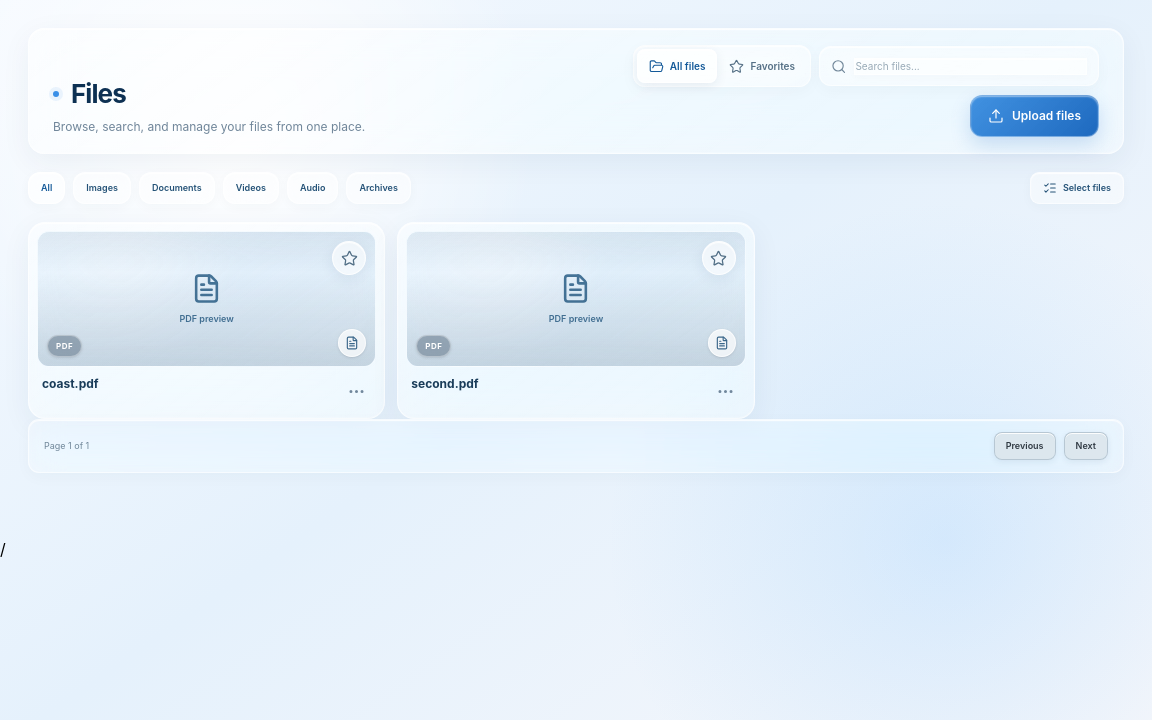
Scenario: page workflows › keeps failed files selected after a partial delete
Expected: the heading "coast.pdf" is shown, x1=42 y1=376 x2=98 y2=392
Click the button "Select files" at [1077, 188], box x1=1030 y1=172 x2=1124 y2=204
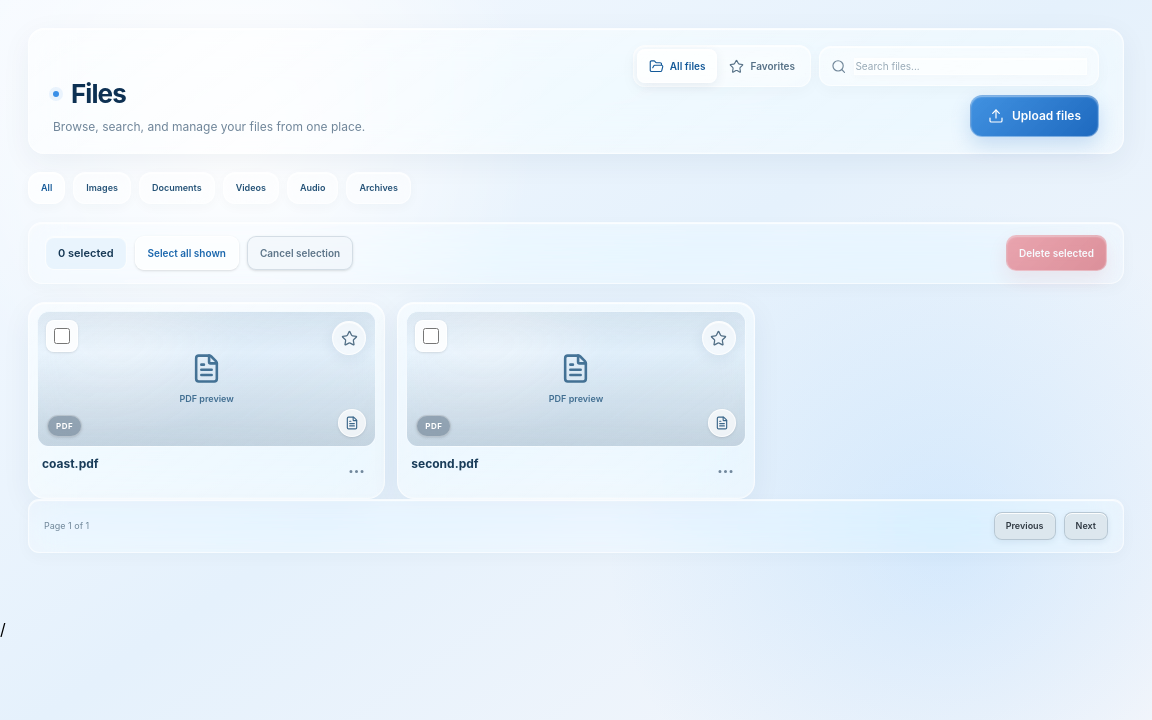
Click the checkbox named "Select coast.pdf" at [62, 336], box x1=54 y1=328 x2=70 y2=344
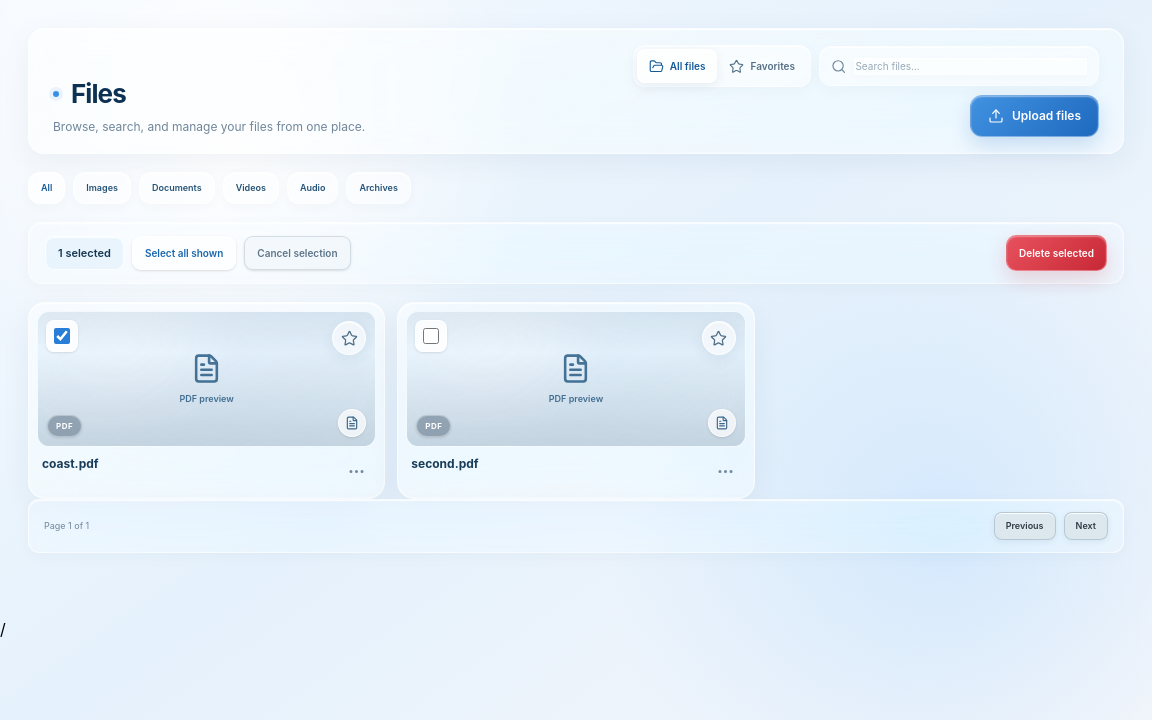
Click the checkbox named "Select second.pdf" at [431, 336], box x1=423 y1=328 x2=439 y2=344
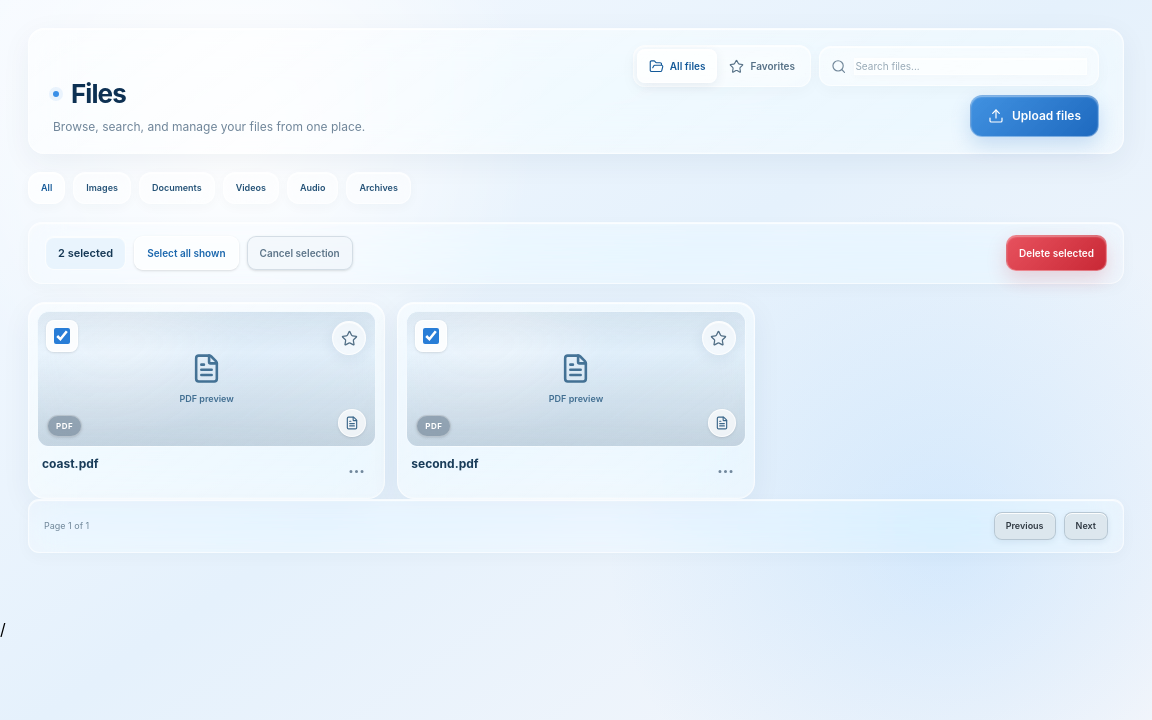
Click the button "Delete selected" at [1057, 253], box x1=1006 y1=235 x2=1107 y2=271
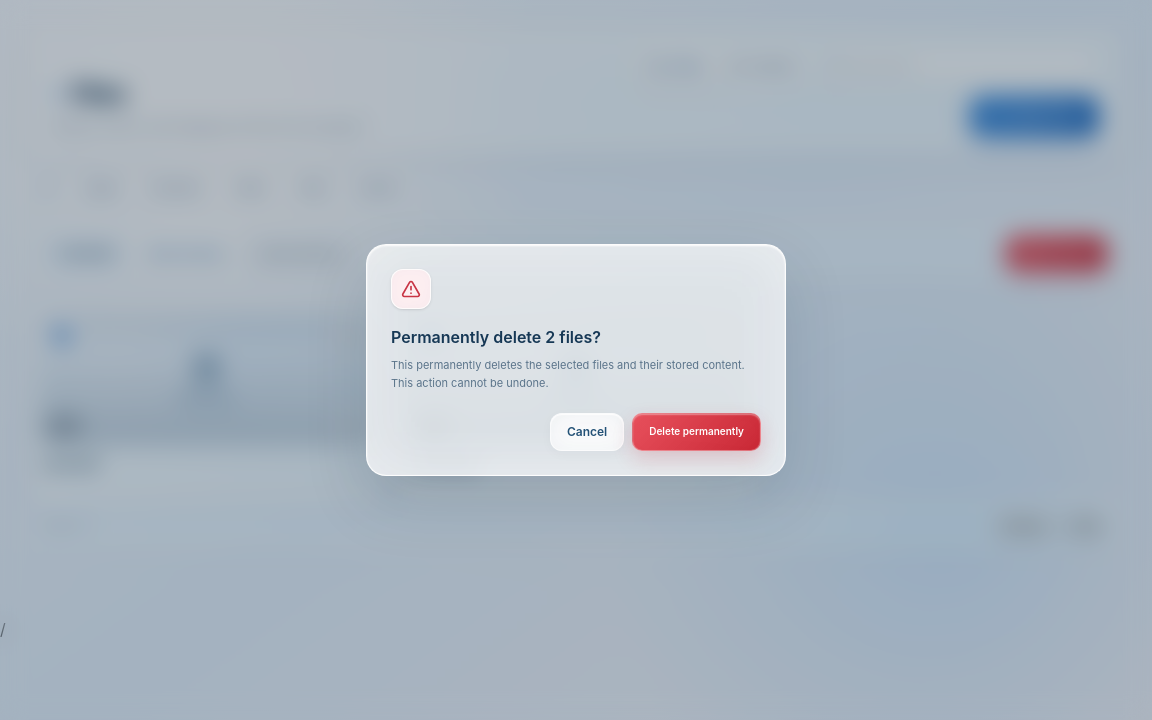
Click the button "Delete permanently" at [697, 432], box x1=632 y1=413 x2=761 y2=451
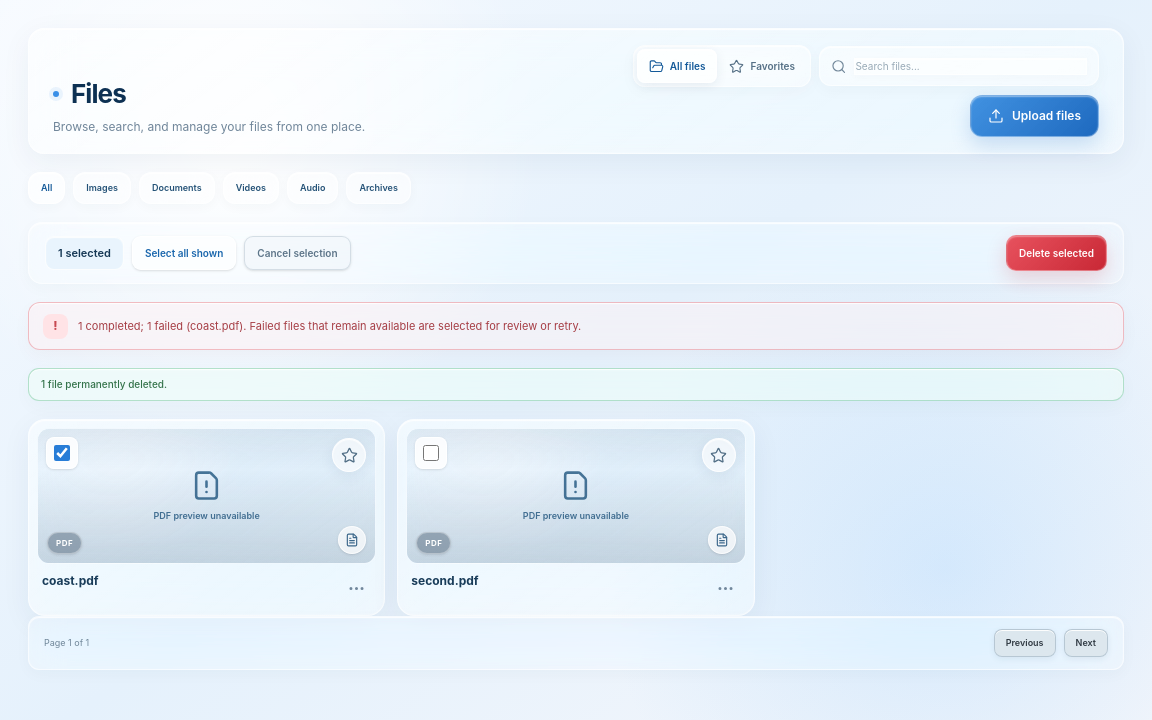
Now the checkbox named "Select coast.pdf" is checked, box x1=54 y1=445 x2=70 y2=461
Now the checkbox named "Select second.pdf" is not checked, box x1=423 y1=445 x2=439 y2=461
Now the text "1 selected" is shown, box x1=45 y1=236 x2=124 y2=270
